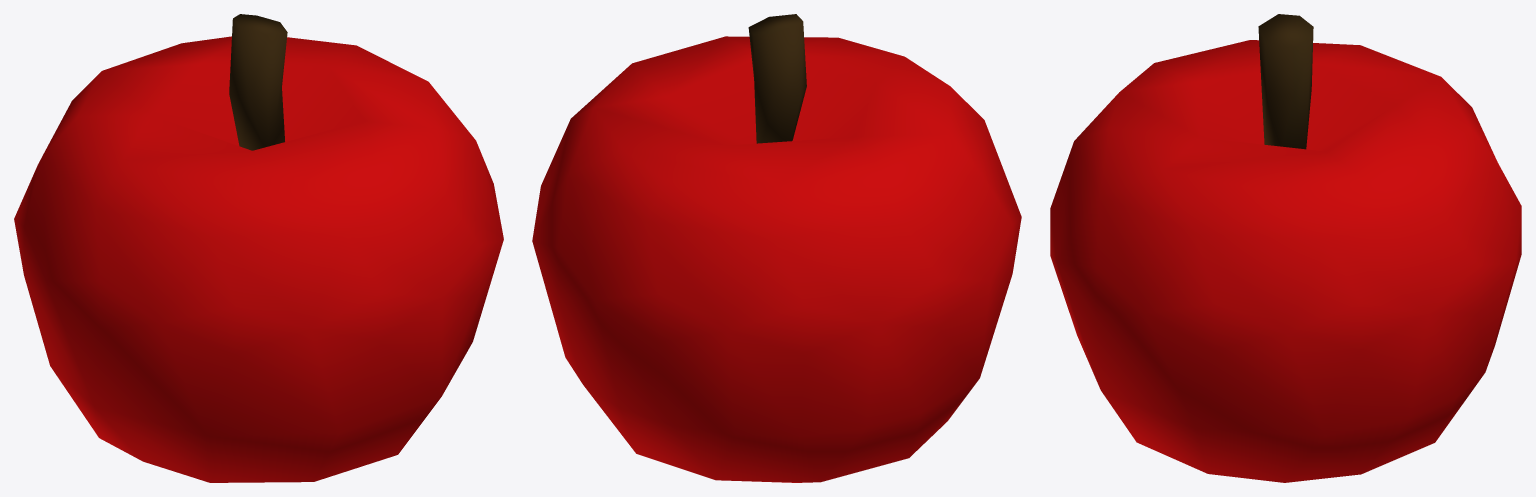
The model's file is 86b93d73-613d-400c-9146-c4efcfc6f395.glb.
The picture shows the model from 3 angles, left to right: view 1: azimuth 30°, elevation 25°; view 2: azimuth 150°, elevation 25°; view 3: azimuth 270°, elevation 25°; orthographic projection. The views are drawn at different scales.
Visible parts, largest first — view 1: AppleRed2; view 2: AppleRed2; view 3: AppleRed2.
Boxes of the visible parts, x1,y1,x2,y2 form: AppleRed2: (14, 14, 503, 482); AppleRed2: (532, 14, 1021, 482); AppleRed2: (1050, 14, 1521, 482).
Bounding box in the file's own units: 0.1619 × 0.1493 × 0.1583.
1 material, 1 textured.
